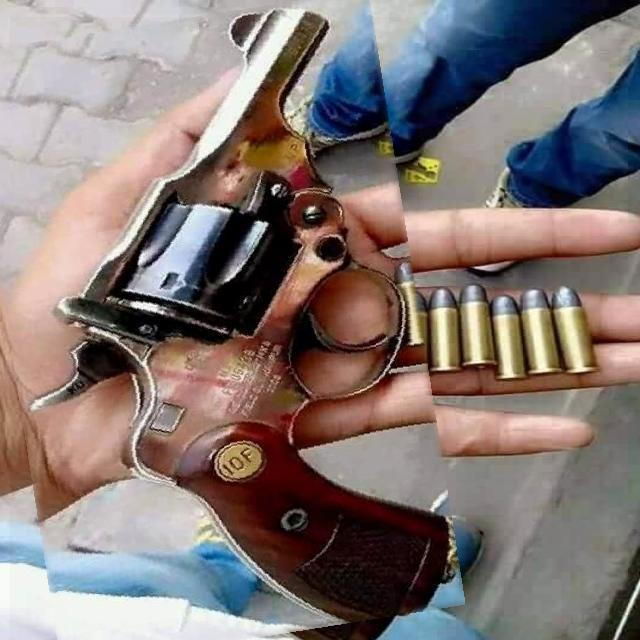rifle: (32, 0, 452, 637)
